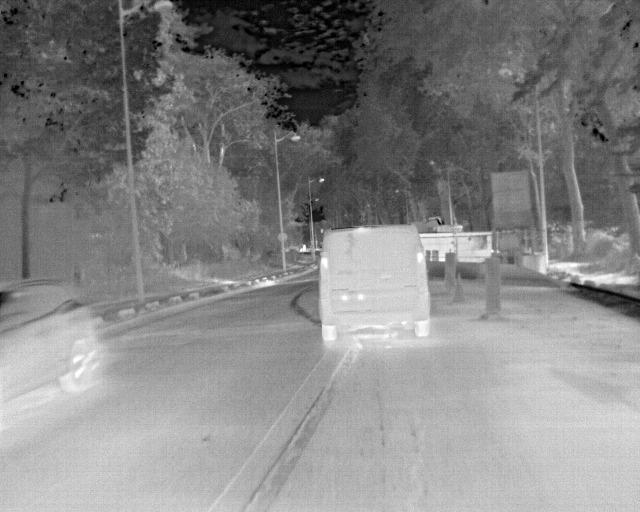car: (0, 279, 99, 419), (319, 224, 431, 341), (417, 232, 499, 264)
light: (321, 229, 323, 233)
sign: (491, 172, 530, 212), (492, 212, 532, 226), (500, 233, 521, 250), (437, 226, 463, 232), (278, 233, 288, 242)
